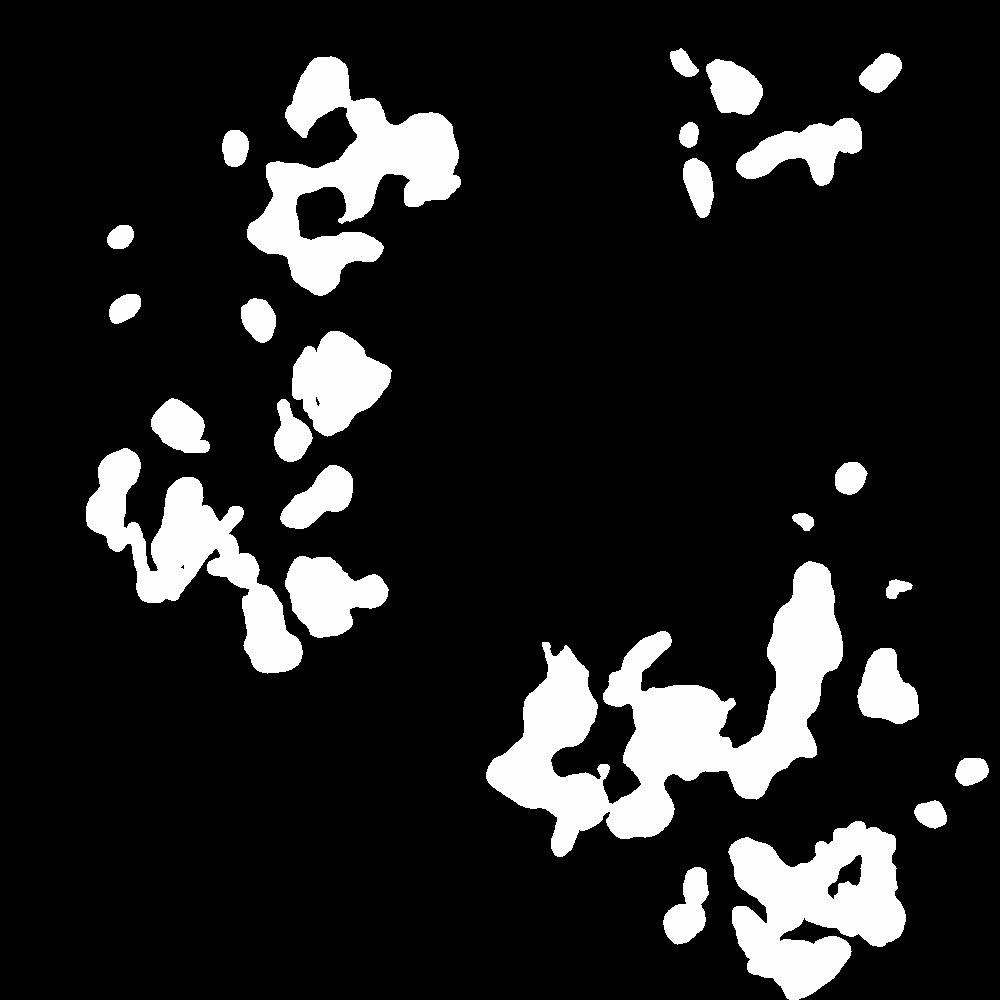illegal: (495, 561, 994, 993), (87, 334, 399, 677), (222, 53, 469, 349), (668, 48, 897, 231), (829, 424, 894, 492), (788, 505, 821, 530)
